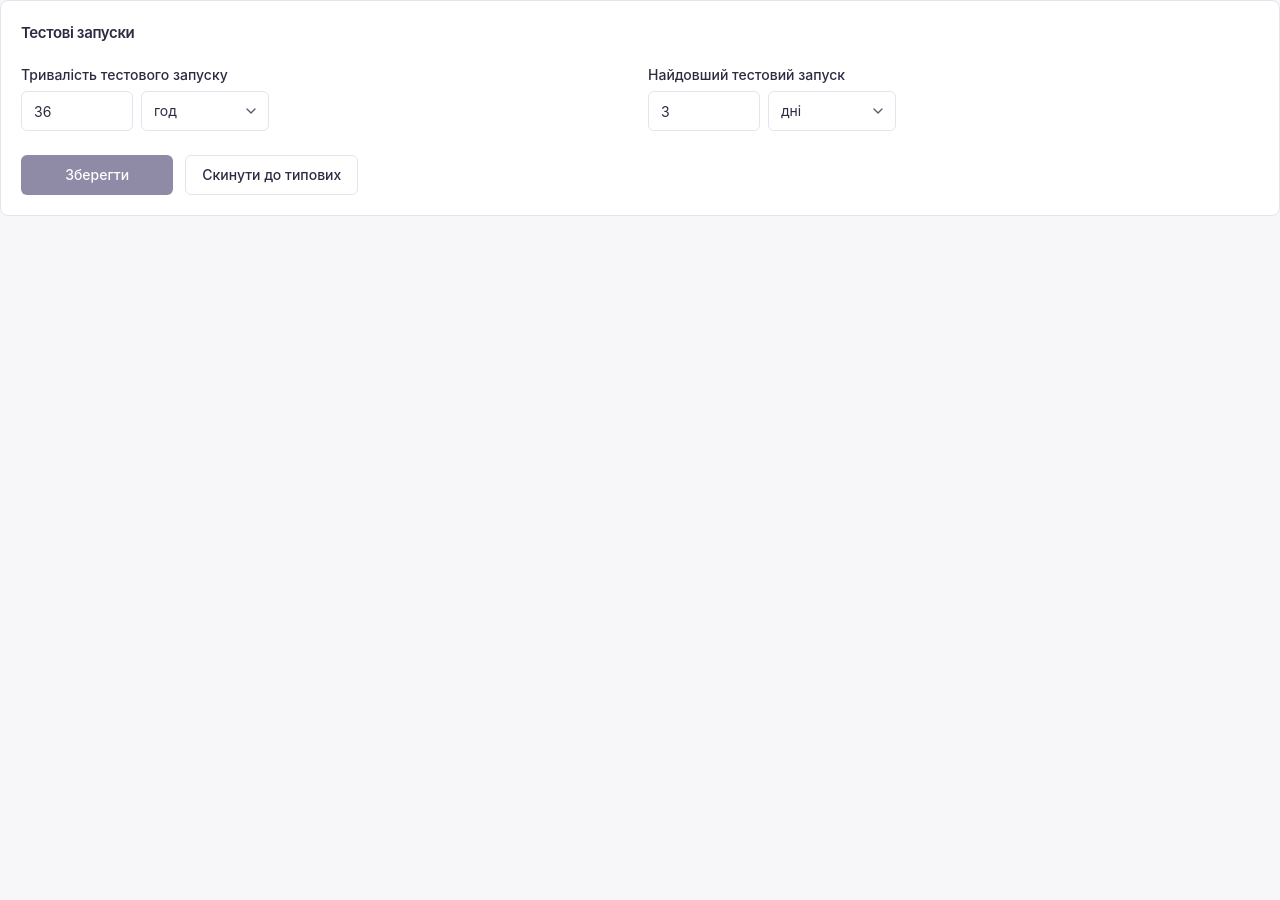
Test: LimitSettingsCard › drops the answer of a save that a reset overtook
Replace the text in the field labelled "Тривалість тестового запуску" with "5": {"x": 77, "y": 111} [21,91,133,131]
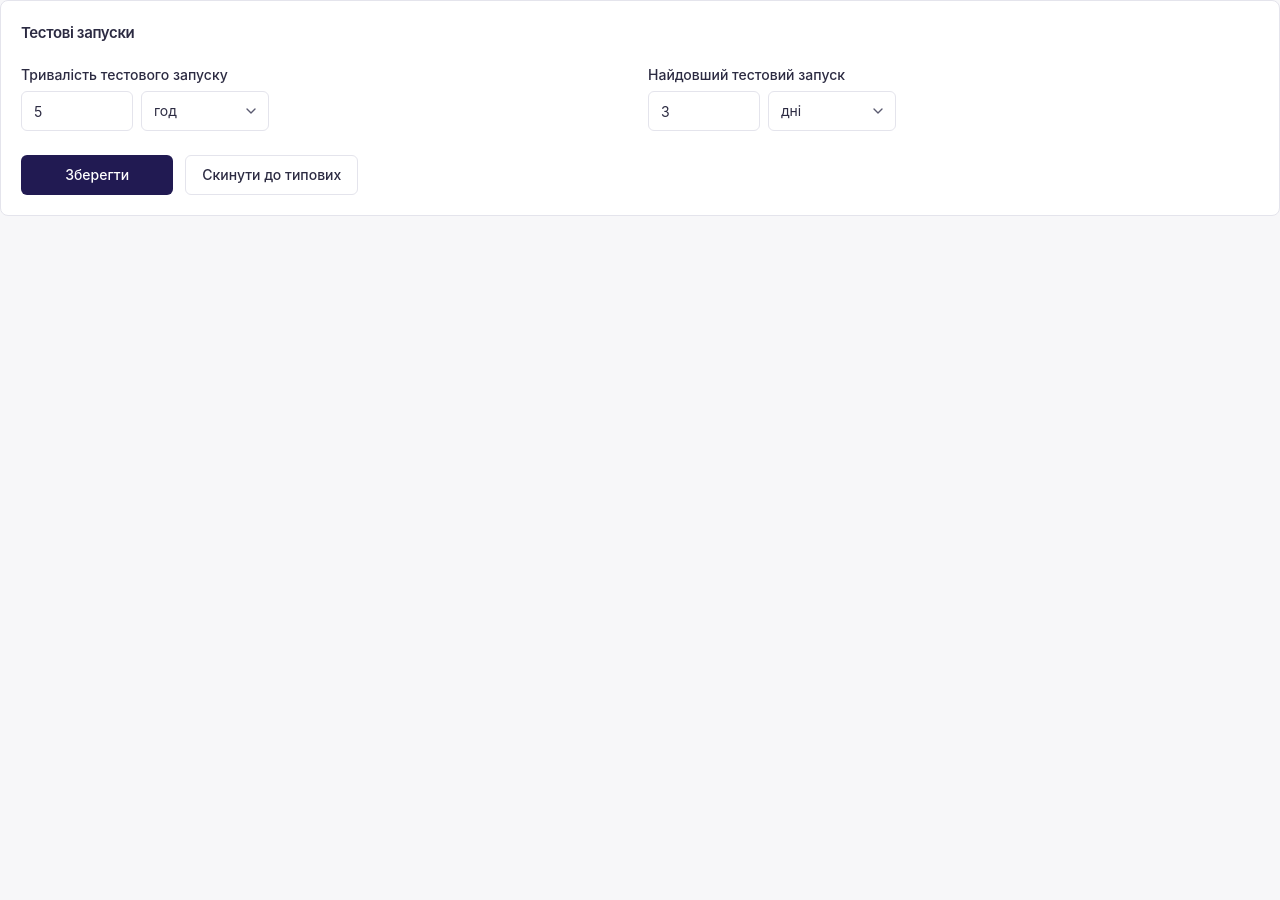
Click the button "Зберегти": {"x": 97, "y": 175} [21,155,173,195]
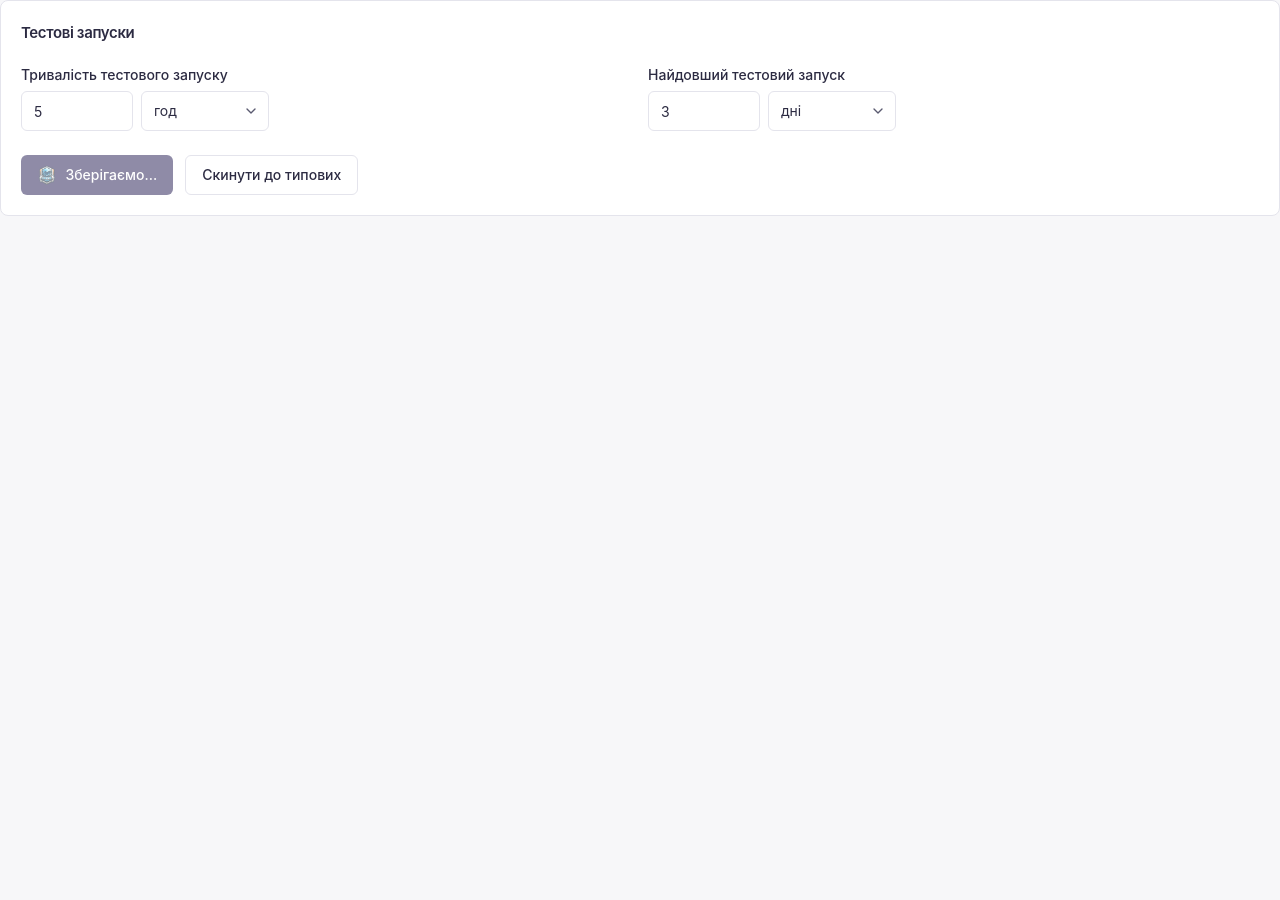
Click the button "Скинути до типових": {"x": 272, "y": 175} [185,155,358,195]
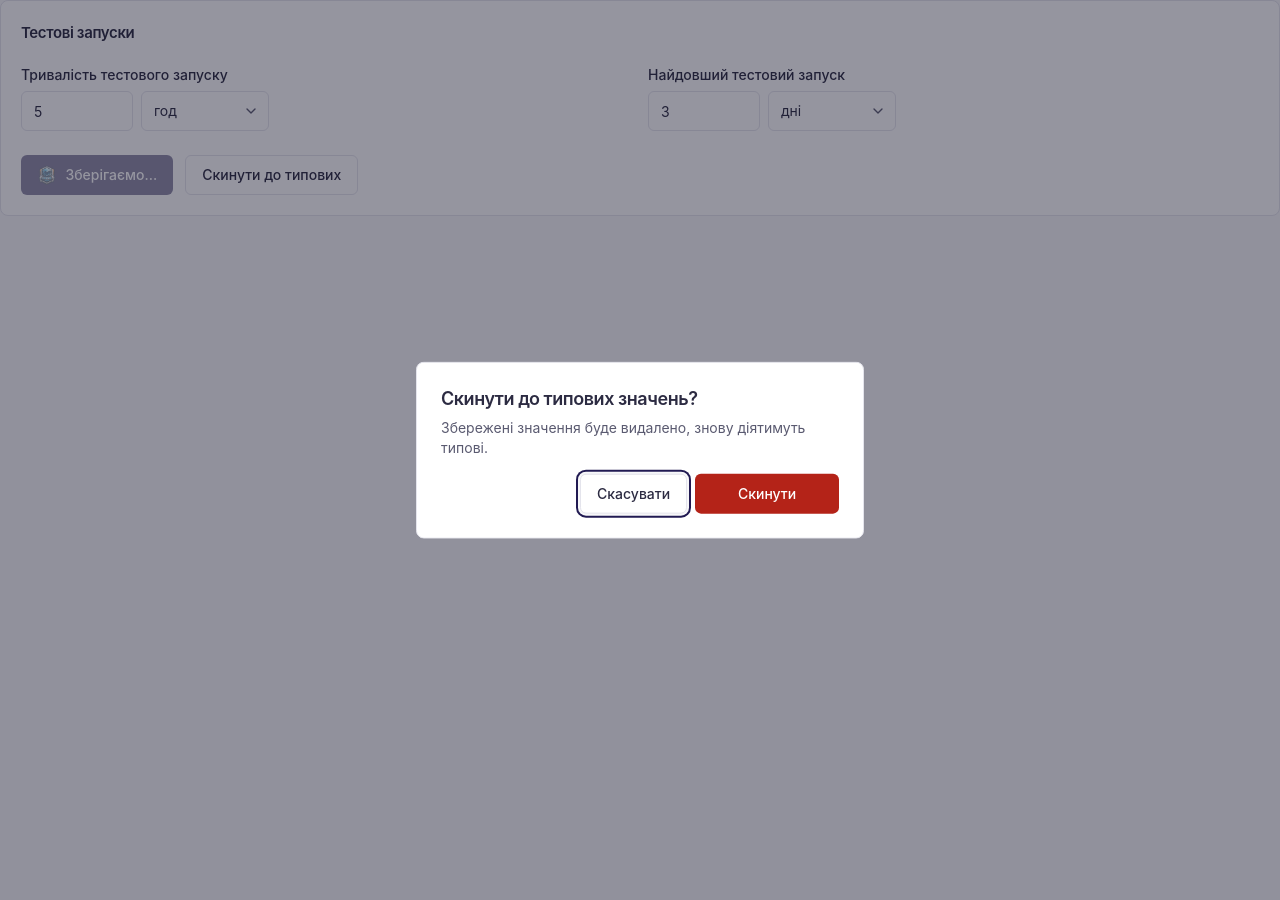
Click the button "Скинути": {"x": 767, "y": 493} [695,473,839,513]
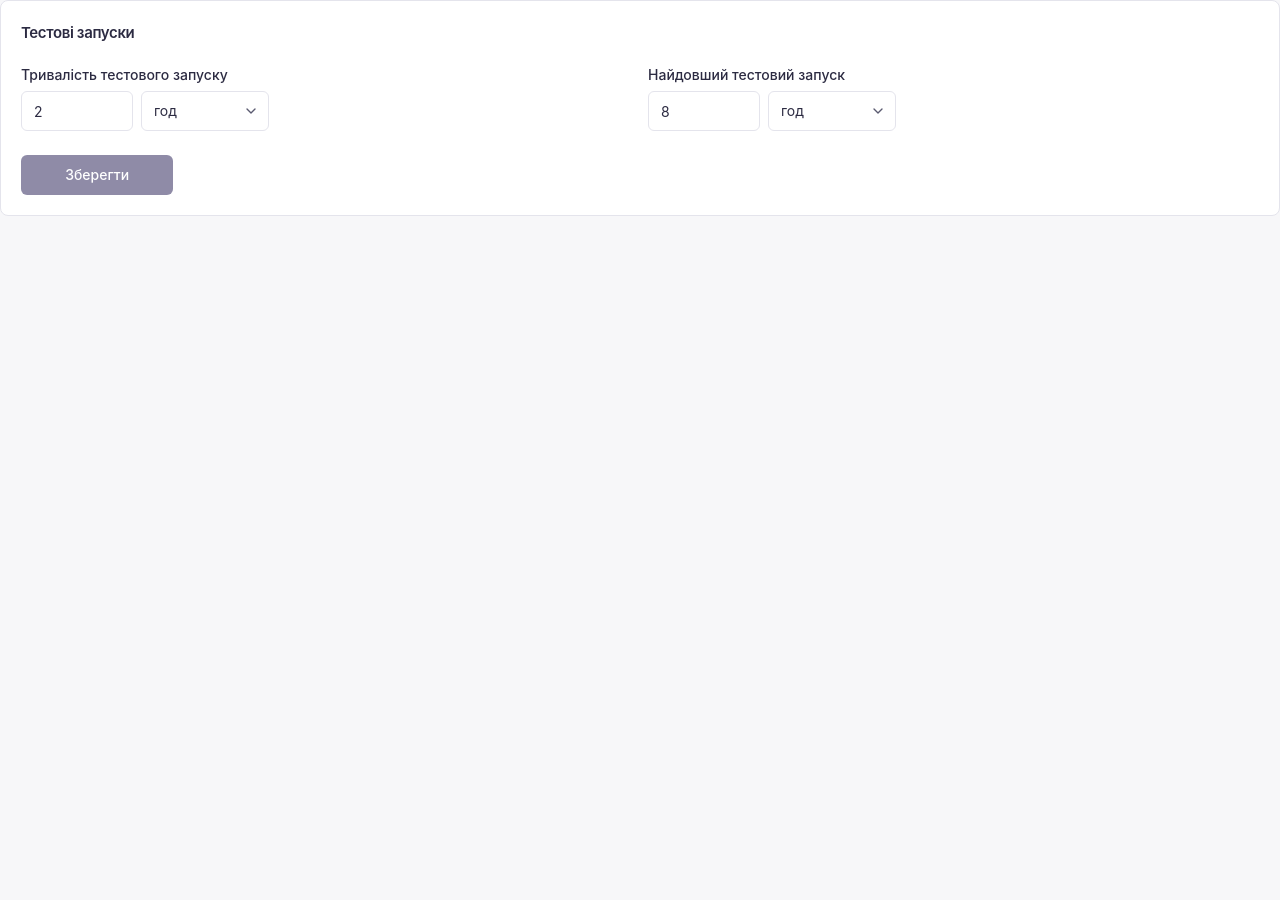
Expected: the field labelled "Тривалість тестового запуску" holds "2", [21,91,133,131]
